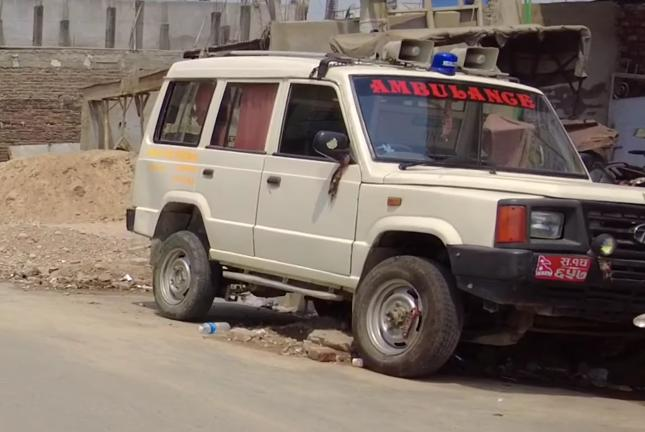ambulance: (117, 22, 645, 381)
